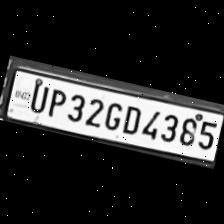2: (82, 92, 106, 128)
3: (62, 88, 89, 123), (156, 108, 181, 142)
4: (138, 104, 163, 140)
5: (194, 115, 219, 151)
8: (176, 111, 200, 146)
D: (118, 100, 144, 134)
G: (100, 96, 125, 132)
P: (43, 83, 69, 119)
U: (24, 78, 50, 114)
